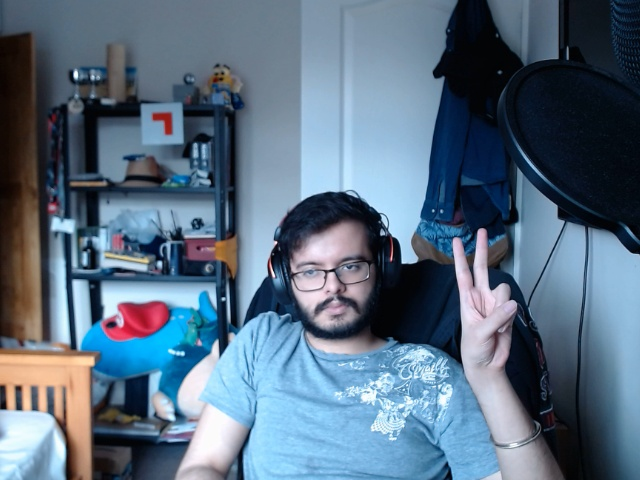Peace: (448, 218, 526, 384)
